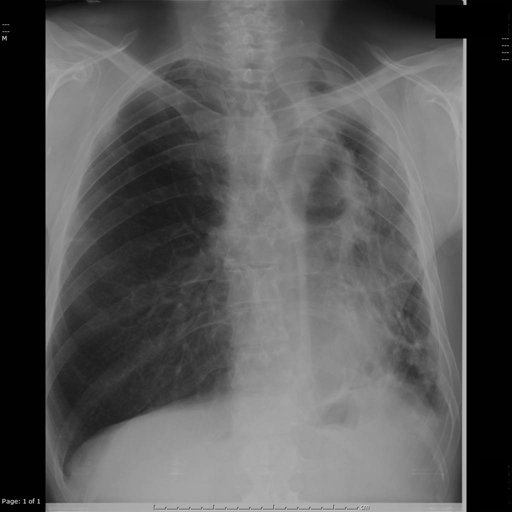TB: (309, 104, 417, 312)
